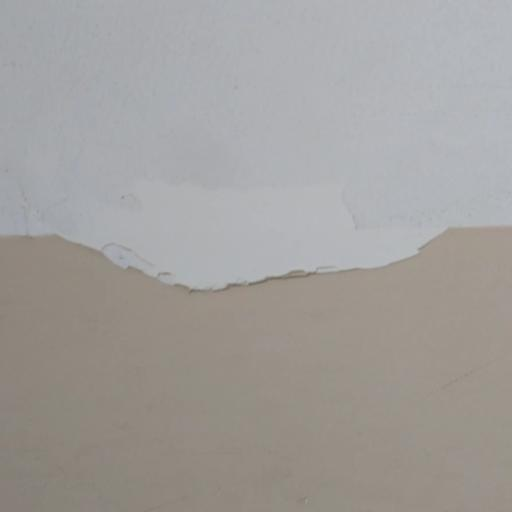peeling: (31, 167, 463, 300)
